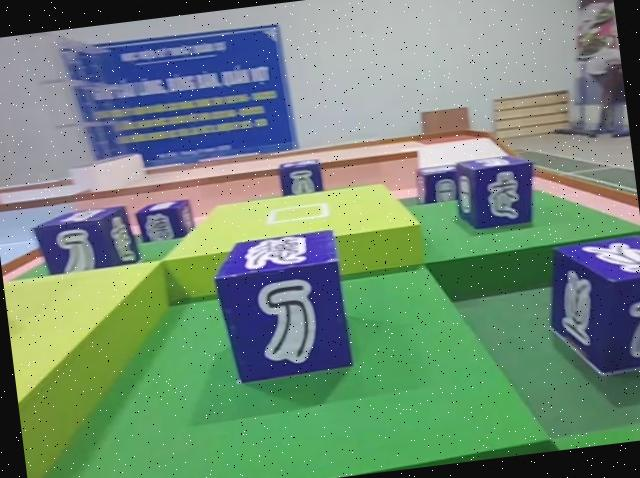R2 Fake Blue: (209, 227, 358, 387), (541, 230, 640, 384), (28, 202, 142, 277), (452, 150, 539, 239), (136, 197, 195, 243), (410, 161, 457, 204), (278, 158, 324, 200)
